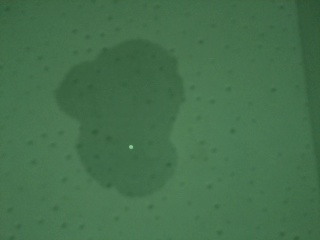Water_detected: (76, 64, 163, 179)
